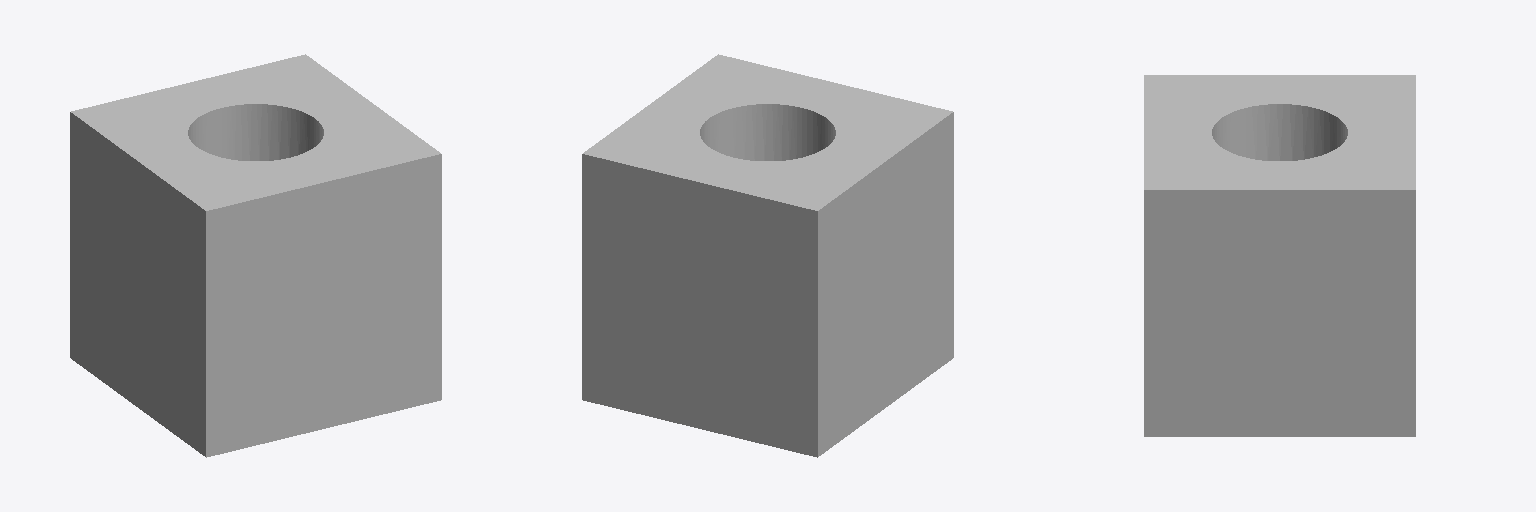
File: cube_hole_100x100x100.obj
3 renders of one model, left to right at view 1: azimuth 30°, elevation 25°; view 2: azimuth 150°, elevation 25°; view 3: azimuth 270°, elevation 25°, orthographic.
Visible parts, largest first — view 1: Part1; view 2: Part1; view 3: Part1.
Boxes of the visible parts, box(x1,y1,x2,y2) form: Part1: box(70, 54, 441, 457); Part1: box(582, 54, 953, 457); Part1: box(1144, 75, 1415, 436).
Size of the model in its own units: 100 by 100 by 100.